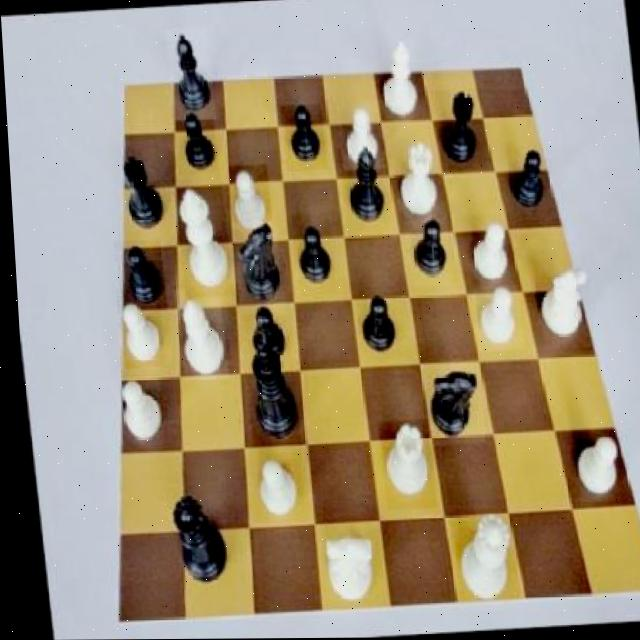bishop: (164, 27, 215, 122), (336, 147, 387, 241)
black-bishop: (236, 337, 296, 451)
black-king: (416, 360, 481, 447), (227, 221, 281, 316)
black-knight: (111, 239, 164, 313), (290, 213, 334, 301), (399, 211, 449, 288), (499, 146, 549, 220), (242, 297, 290, 372), (351, 287, 398, 363), (170, 105, 218, 178), (279, 105, 327, 174)
black-pawn: (158, 488, 226, 598)
black-queen: (106, 145, 167, 242), (427, 89, 485, 172)
black-rook: (170, 290, 224, 382), (373, 38, 418, 123)
white-bishop: (170, 174, 229, 299)
white-king: (528, 251, 595, 355), (309, 525, 377, 616)
white-knight: (558, 431, 621, 507), (241, 446, 300, 524), (459, 214, 515, 285), (110, 377, 160, 453), (467, 285, 520, 352), (114, 296, 162, 369), (225, 164, 271, 238), (335, 104, 385, 172)
white-pawn: (444, 515, 513, 608)
white-queen: (372, 419, 430, 512), (388, 142, 441, 222)
